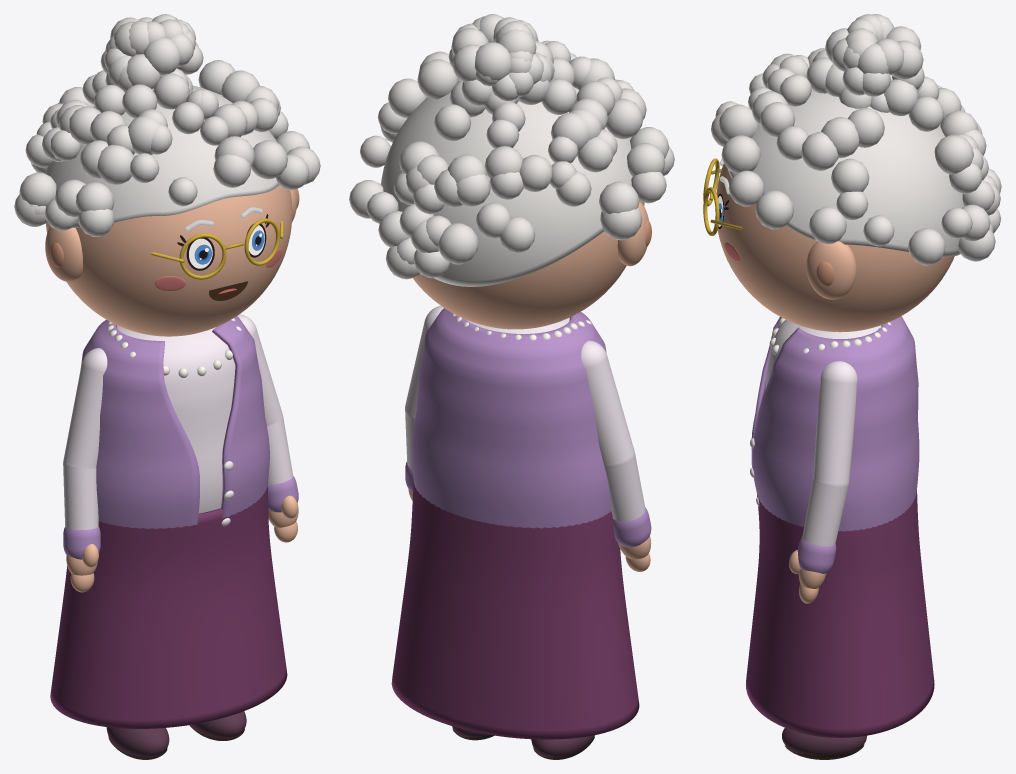
File: oma.glb
The picture shows the model from 3 angles, left to right: view 1: azimuth 30°, elevation 25°; view 2: azimuth 150°, elevation 25°; view 3: azimuth 270°, elevation 25°; orthographic projection. The views are drawn at different scales.
Visible parts, largest first — view 1: oma_rok, oma_vest, oma_hoofd, oma_romp, oma_haar, oma_bovenarm_R, oma_onderarm_R, oma_schoen_R, oma_oor_R, oma_bovenarm_L, oma_onderarm_L, oma_krul26 (+35 smaller); view 2: oma_rok, oma_vest, oma_haar, oma_hoofd, oma_bovenarm_R, oma_onderarm_R, oma_krul13, oma_krul48, oma_krul1, oma_knotkrul87, oma_krul36, oma_krul35 (+39 smaller); view 3: oma_rok, oma_vest, oma_haar, oma_hoofd, oma_bovenarm_L, oma_onderarm_L, oma_oor_L, oma_schoen_L, oma_krul78, oma_krul7, oma_krul63, oma_krul21 (+28 smaller).
Boxes of the visible parts, x1,y1,x2,y2 form: oma_rok: (50,486,287,728); oma_vest: (81,316,269,528); oma_hoofd: (45,185,292,336); oma_romp: (117,325,235,513); oma_haar: (45,85,279,227); oma_bovenarm_R: (63,348,107,468); oma_onderarm_R: (63,463,98,529); oma_schoen_R: (106,727,169,757); oma_oor_R: (45,226,82,281); oma_bovenarm_L: (237,314,282,426); oma_onderarm_L: (267,417,293,484); oma_krul26: (97,144,134,184); oma_rok: (391,482,639,739); oma_vest: (412,308,611,528); oma_haar: (381,79,632,286); oma_hoofd: (413,201,644,329); oma_bovenarm_R: (581,340,634,467); oma_onderarm_R: (604,454,645,521); oma_krul13: (438,223,478,264); oma_krul48: (417,59,458,99); oma_krul1: (606,98,643,139); oma_knotkrul87: (474,42,510,80); oma_krul36: (434,104,471,141); oma_krul35: (599,181,639,214); oma_rok: (745,491,934,737); oma_vest: (751,316,919,531); oma_haar: (728,89,964,256); oma_hoofd: (716,164,954,332); oma_bovenarm_L: (813,361,857,487); oma_onderarm_L: (802,478,848,546); oma_oor_L: (806,241,856,299); oma_schoen_L: (782,728,866,755); oma_krul78: (755,190,793,229); oma_krul7: (721,135,760,173); oma_krul63: (934,134,973,174); oma_krul21: (809,206,846,244).
Bounding box in the file's own units: 0.7298 × 1.84 × 0.6966.
